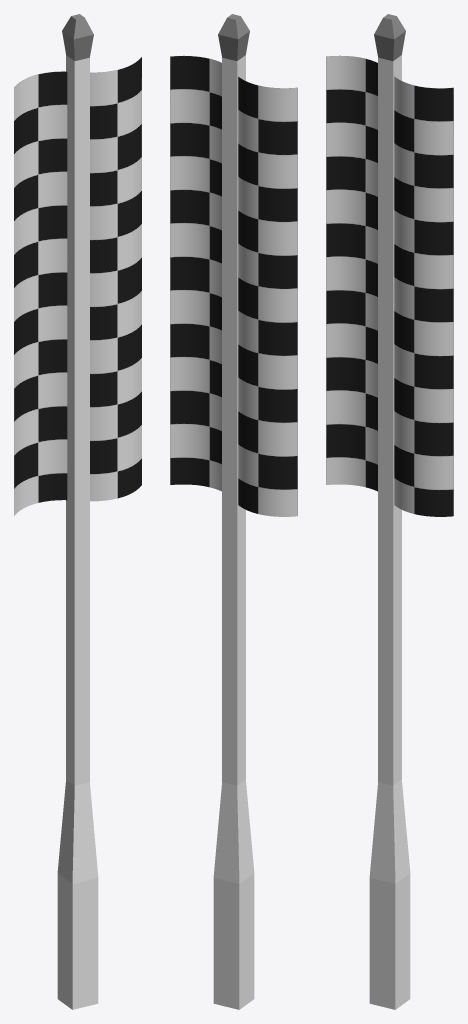
File: flagCheckers.glb
3 renders of one model, left to right at view 1: azimuth 30°, elevation 25°; view 2: azimuth 150°, elevation 25°; view 3: azimuth 330°, elevation 25°, orthographic.
Parts seen in each view (by area): view 1: flagCheckers, flagCheckers.001; view 2: flagCheckers, flagCheckers.001; view 3: flagCheckers, flagCheckers.001.
Part boxes in pixels (box(x1,y1,x2,y2)): flagCheckers: box(14, 57, 141, 515); flagCheckers.001: box(57, 14, 98, 1009); flagCheckers: box(170, 55, 297, 516); flagCheckers.001: box(213, 14, 254, 1009); flagCheckers: box(326, 55, 453, 516); flagCheckers.001: box(369, 14, 410, 1009).
Size of the model in its own units: 0.85 by 6.25 by 0.176.
Materials: 4 (1 with a texture image).
